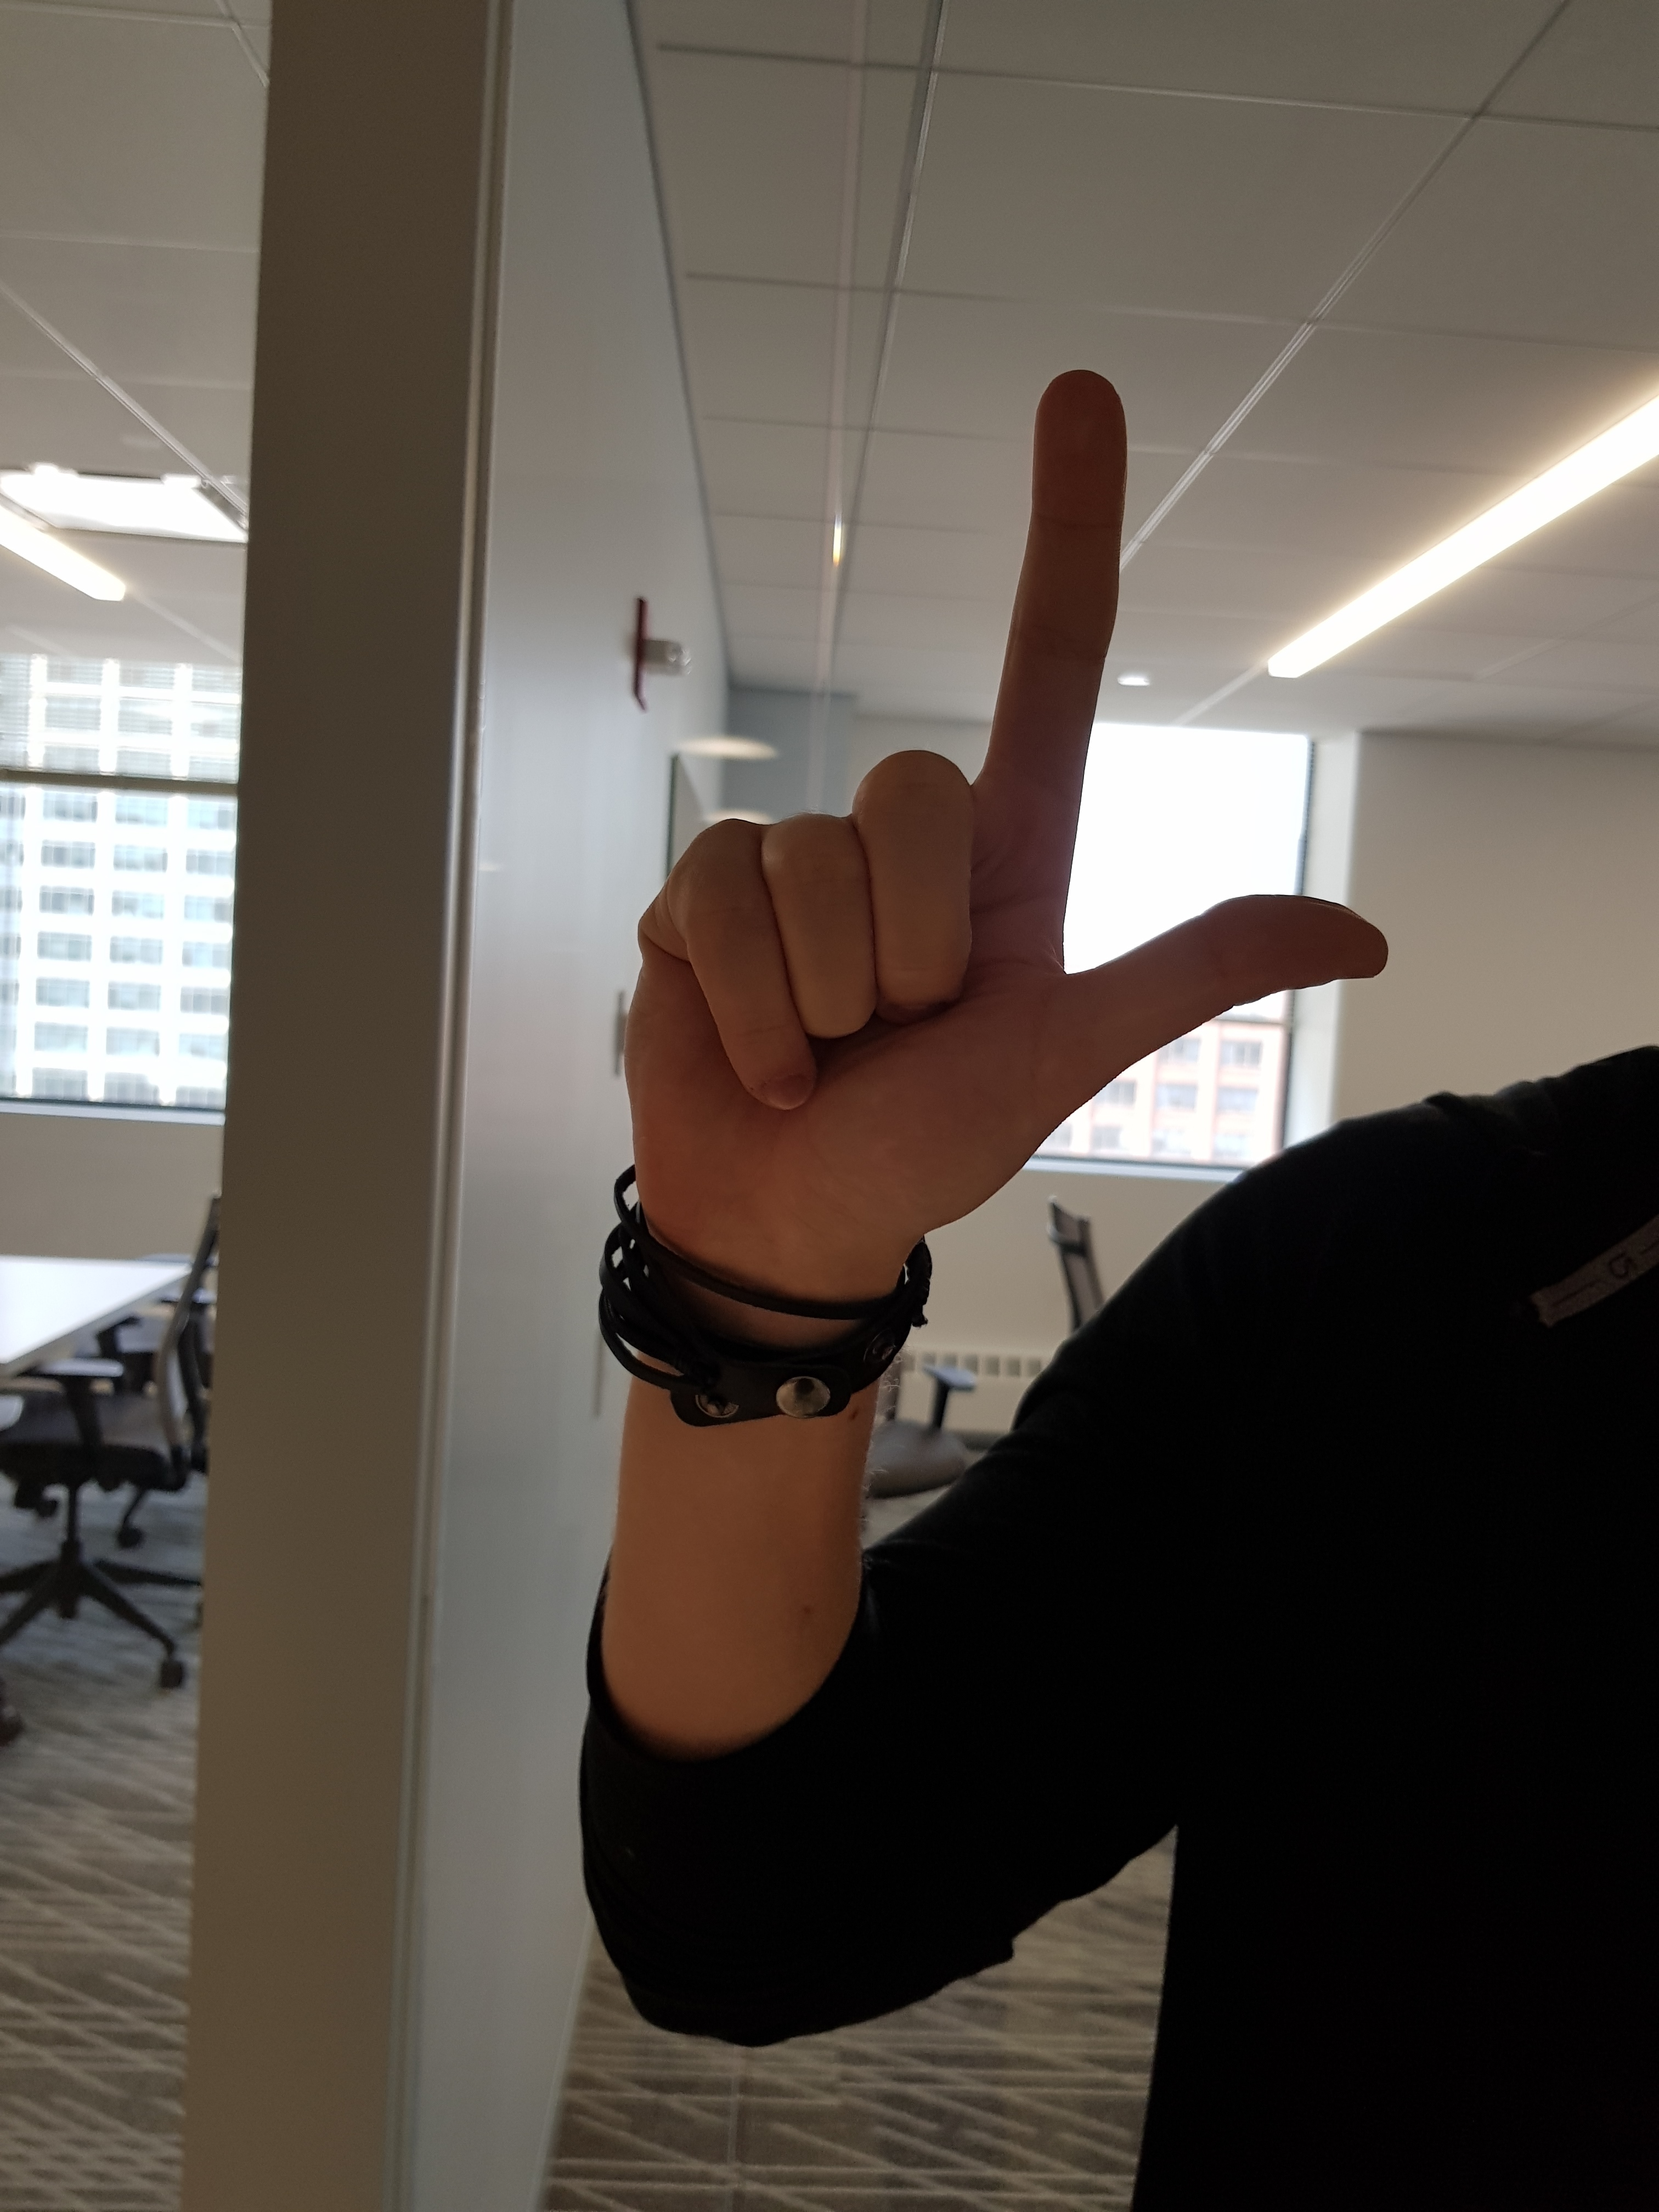l: (586, 322, 1419, 1313)
